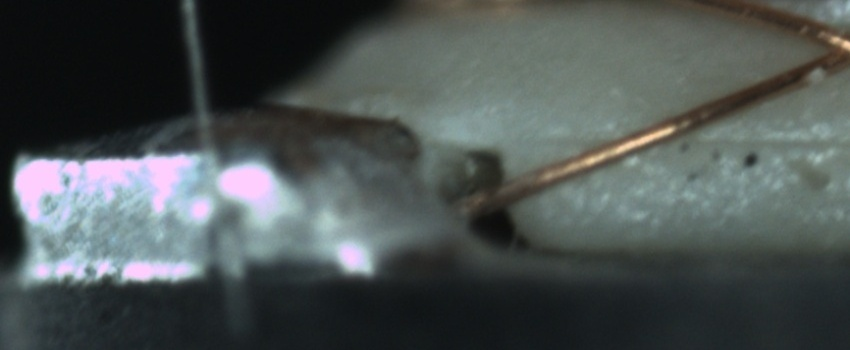CL: (797, 16, 850, 78)
DL: (549, 110, 850, 171)
